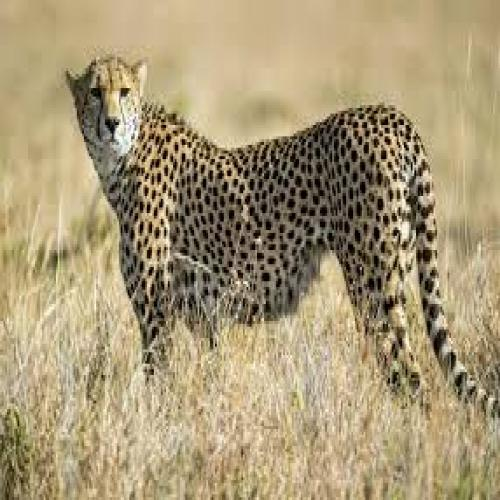cheetah-endangered: (64, 52, 500, 422)
